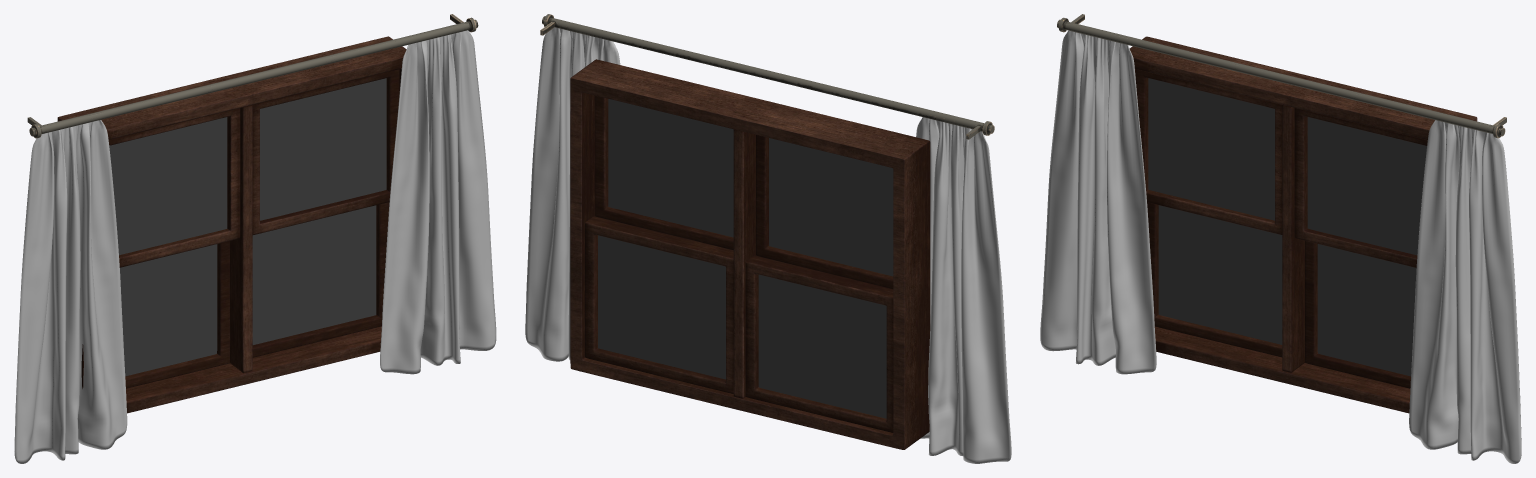
3 views of the same model, side by side, from view 1: azimuth 30°, elevation 25°; view 2: azimuth 150°, elevation 25°; view 3: azimuth 330°, elevation 25° (orthographic).
Parts seen in each view (by area): view 1: Window (×9), Curtain (×3), WindowMiddle; view 2: Window (×9), Curtain (×3), WindowMiddle; view 3: Window (×9), Curtain (×3), WindowMiddle.
Part boxes in pixels (<box>): Window (×9): <box>57,36,406,413</box>; Curtain (×3): <box>14,17,496,463</box>; WindowMiddle: <box>230,105,252,373</box>; Window (×9): <box>570,59,930,449</box>; Curtain (×3): <box>525,14,1011,463</box>; WindowMiddle: <box>733,129,755,398</box>; Window (×9): <box>1129,36,1477,413</box>; Curtain (×3): <box>1040,17,1521,463</box>; WindowMiddle: <box>1282,105,1304,372</box>.
Size of the model in its own units: 682 by 455 by 93.47.
